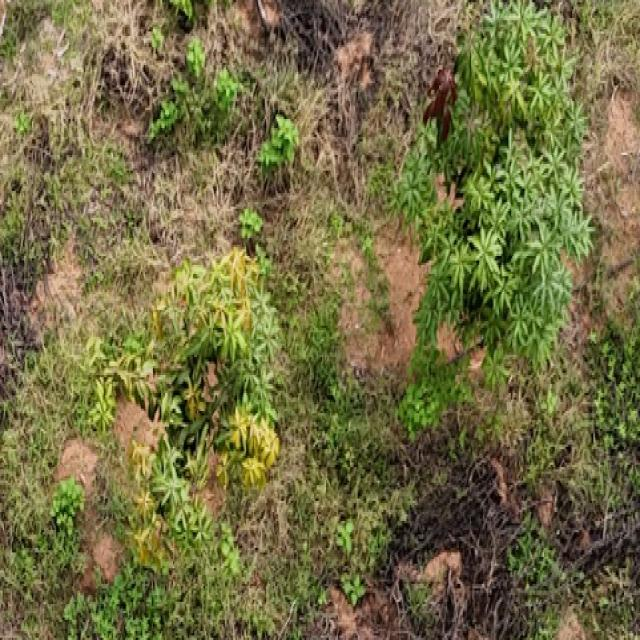mangoTree: (399, 0, 596, 392), (97, 248, 282, 564)
